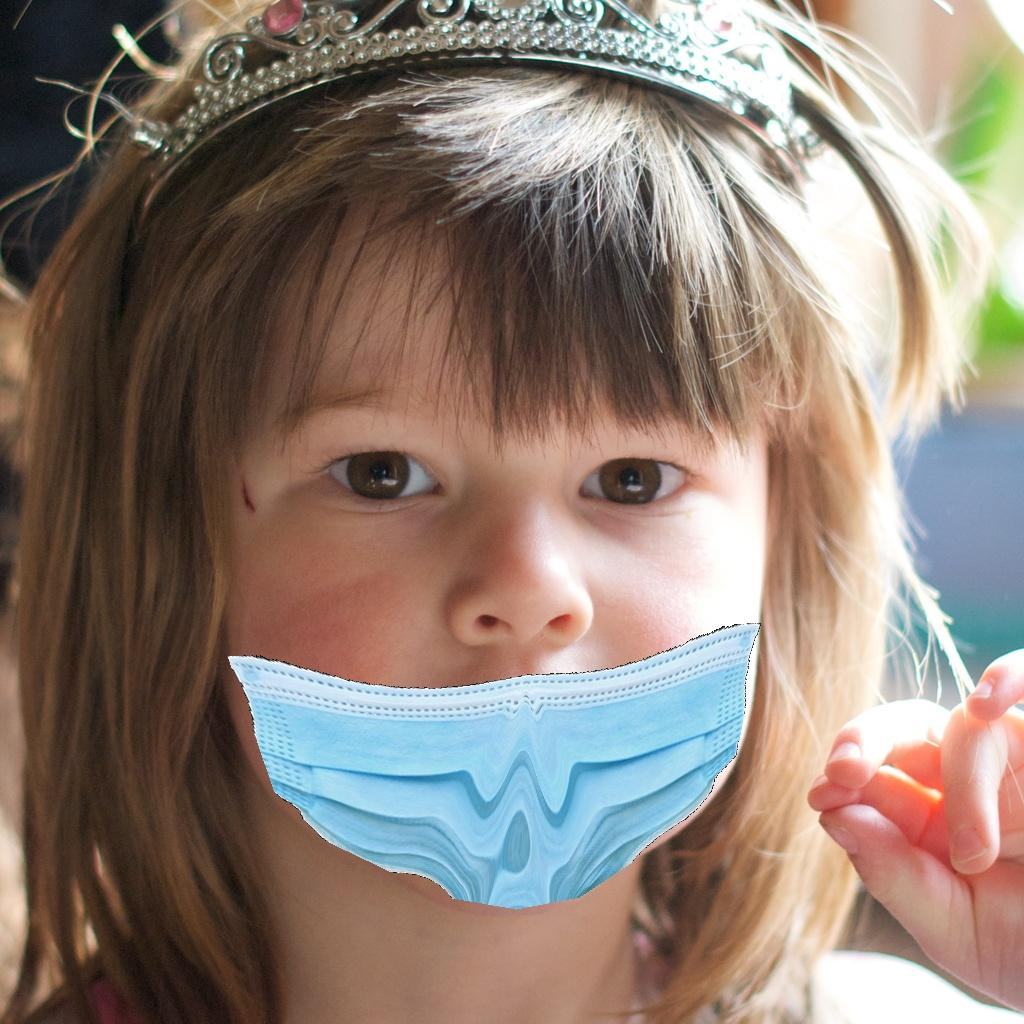Máscara Incorreta: (185, 255, 772, 901)
